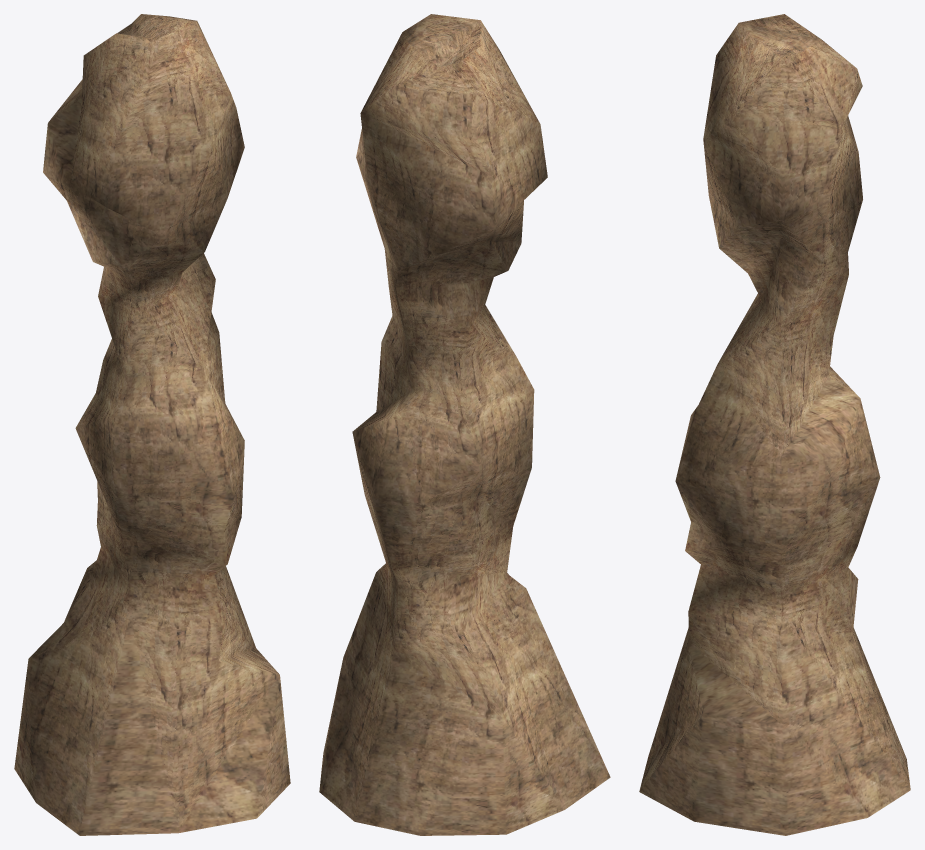
The model's file is rock_tatt_spire_lumpy_a2_l1.fbx.
3 renders of one model, left to right at view 1: azimuth 30°, elevation 25°; view 2: azimuth 150°, elevation 25°; view 3: azimuth 270°, elevation 25°, orthographic.
Parts seen in each view (by area): view 1: mesh_node; view 2: mesh_node; view 3: mesh_node.
Boxes of the visible parts, x1,y1,x2,y2 form: mesh_node: [14, 14, 290, 835]; mesh_node: [319, 14, 610, 835]; mesh_node: [639, 14, 910, 835].
Size of the model in its own units: 25.12 by 75.02 by 24.6.
Materials: 1 (1 with a texture image).
